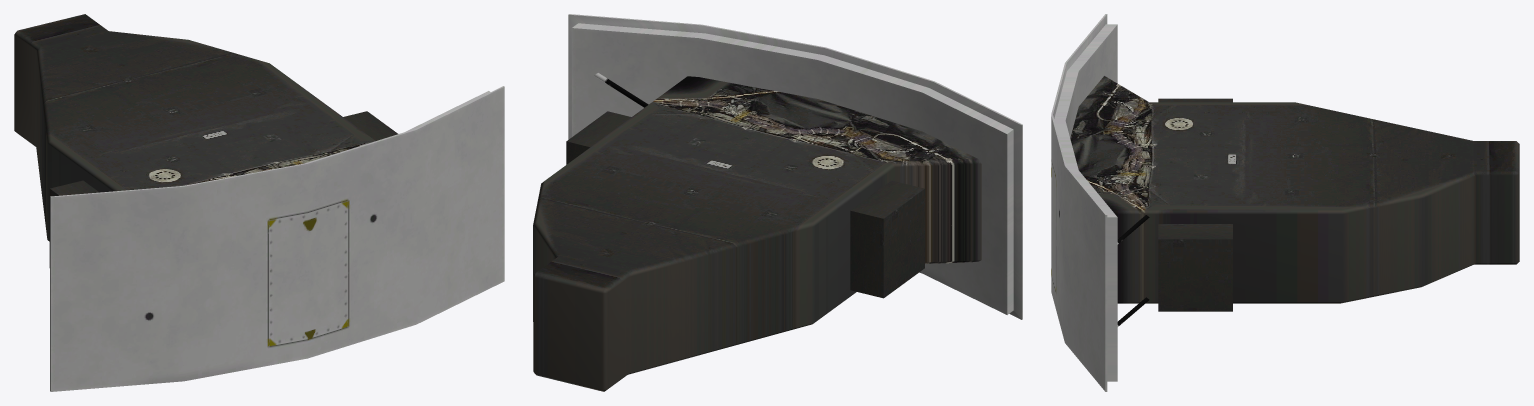
Rendered from Wide Field Planetary Camera.glb.
3 views of the same model, side by side, from view 1: azimuth 30°, elevation 25°; view 2: azimuth 150°, elevation 25°; view 3: azimuth 270°, elevation 25° (orthographic). The views are drawn at different scales.
Visible parts, largest first — view 1: hubbletele; view 2: hubbletele; view 3: hubbletele.
Part boxes in pixels (box(x1,y1,x2,y2)): hubbletele: box(14, 14, 504, 391); hubbletele: box(533, 14, 1022, 391); hubbletele: box(1051, 14, 1519, 391).
Size of the model in its own units: 72.13 by 29.6 by 71.05.
1 material, 1 textured.
